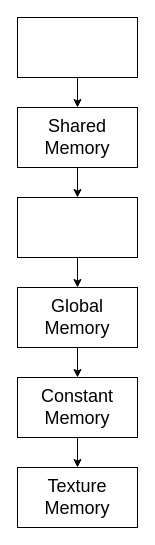
This 155x545 diagram has some shape labels left out. Each missing label, with the centre of its shape:
"Local Memory" belongs at [77,227].
"Register" belongs at [77,47].
